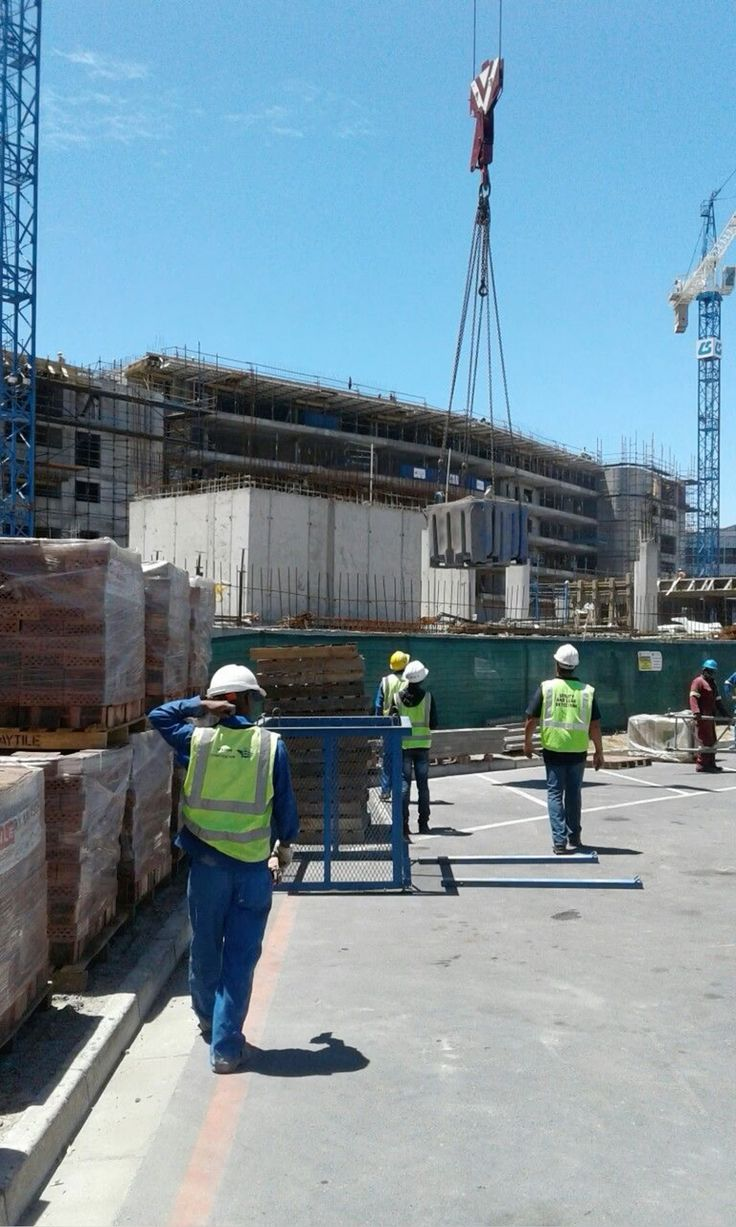hardhat: (187, 644, 308, 706), (379, 649, 443, 683), (546, 640, 596, 670), (691, 642, 728, 681)
person: (148, 626, 358, 1067), (516, 622, 635, 864), (360, 644, 456, 854), (680, 635, 724, 791)
safety_vest: (192, 710, 283, 873), (383, 670, 443, 783), (529, 681, 587, 752)
